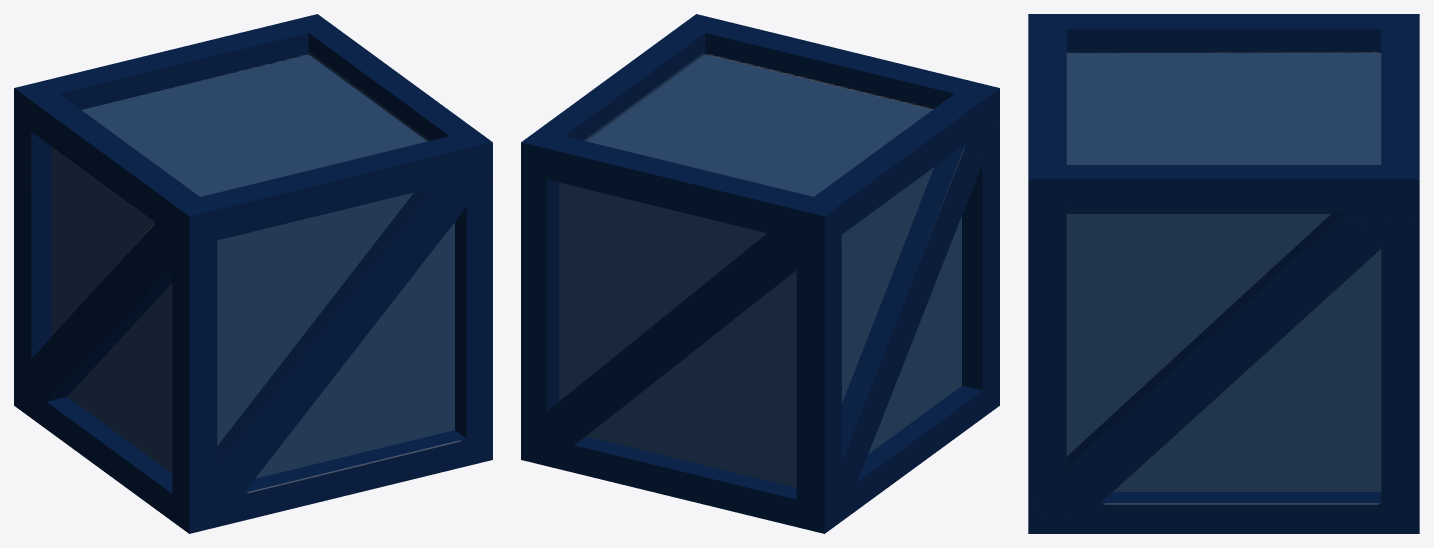
Rendered from Crate_Medium.fbx.
The picture shows the model from 3 angles, left to right: view 1: azimuth 30°, elevation 25°; view 2: azimuth 150°, elevation 25°; view 3: azimuth 270°, elevation 25°; orthographic projection. The views are drawn at different scales.
Visible parts, largest first — view 1: Crate; view 2: Crate; view 3: Crate.
Part boxes in pixels (x1,y1,x2,y2): Crate: (14,14,492,533); Crate: (521,14,999,533); Crate: (1028,14,1419,533).
Bounding box in the file's own units: 1.75 × 1.75 × 1.75.
